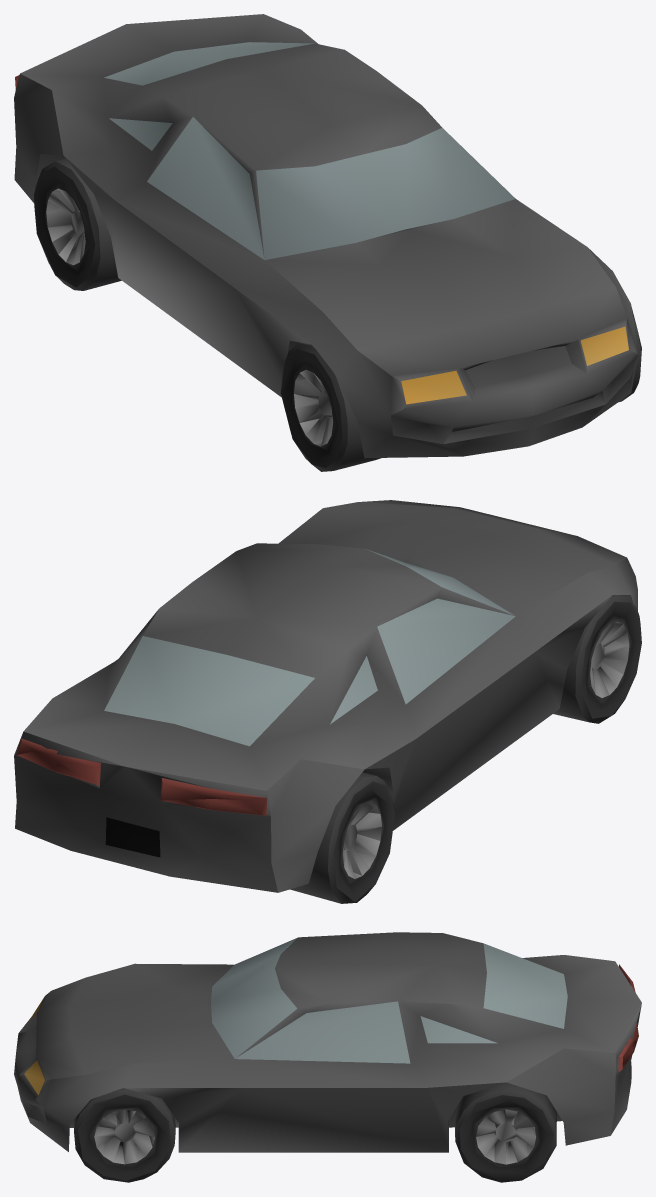
Rendered from Car 3.fbx.
3 renders of one model, top to bottom at view 1: azimuth 30°, elevation 25°; view 2: azimuth 150°, elevation 25°; view 3: azimuth 270°, elevation 25°, orthographic. The views are drawn at different scales.
Visible parts, largest first — view 1: Car 3.001; view 2: Car 3.001; view 3: Car 3.001.
Boxes of the visible parts, bbox=[...] form: Car 3.001: bbox=[14, 14, 641, 471]; Car 3.001: bbox=[14, 500, 641, 903]; Car 3.001: bbox=[14, 932, 641, 1182].
Size of the model in its own units: 592 by 399 by 1383.
